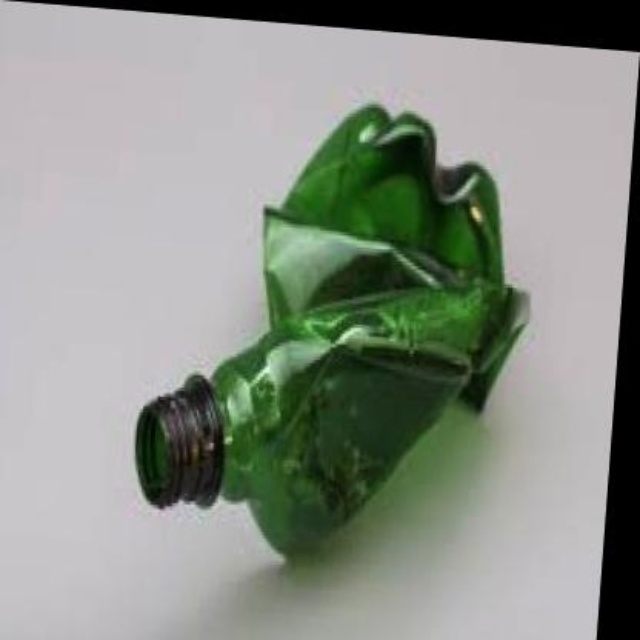trash: (135, 105, 528, 551)
